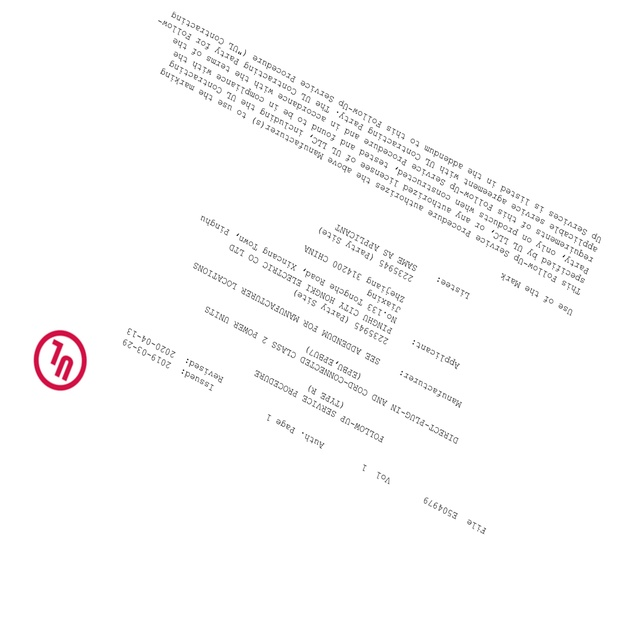ul: (34, 330, 87, 391)
